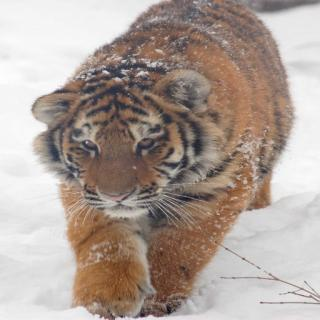Tiger: (28, 0, 299, 320)
